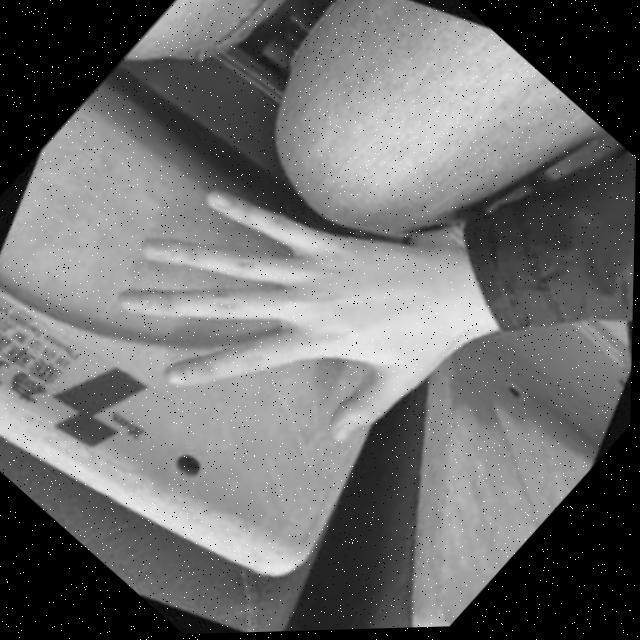no-gloves: (77, 90, 506, 520)
